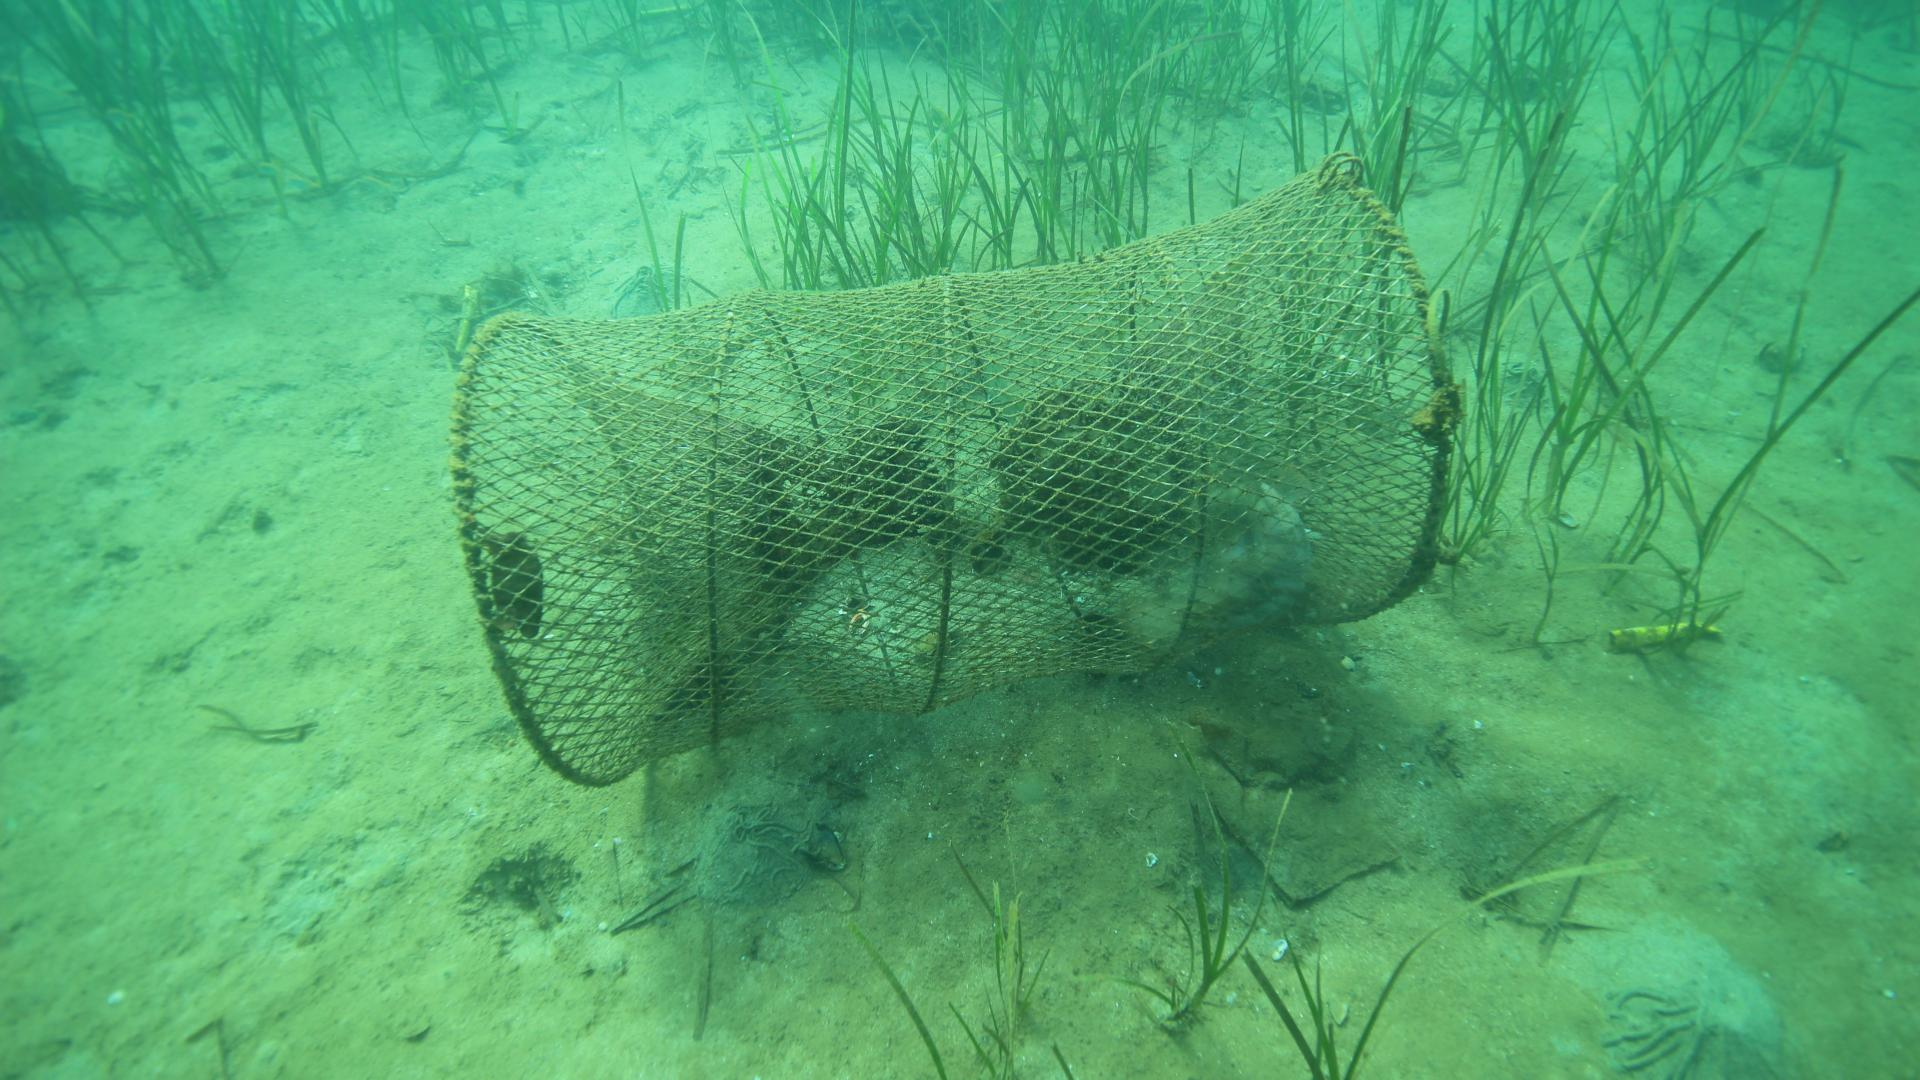spring fish trap: (450, 145, 1462, 790)
